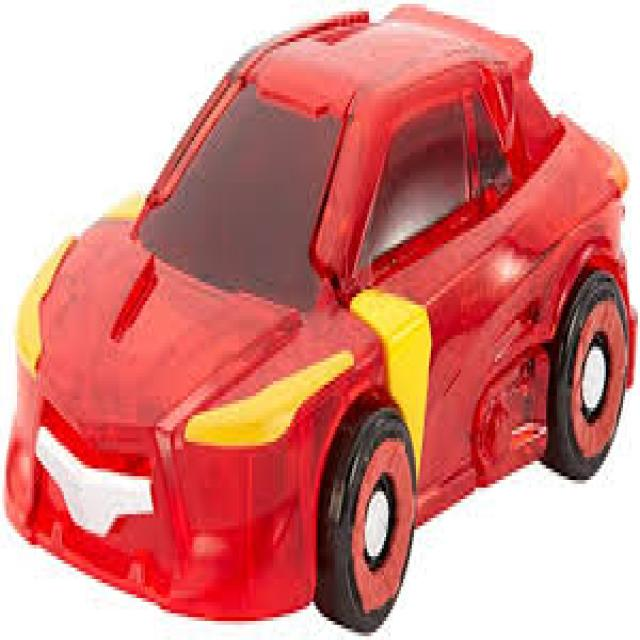Car: (2, 0, 637, 632)
